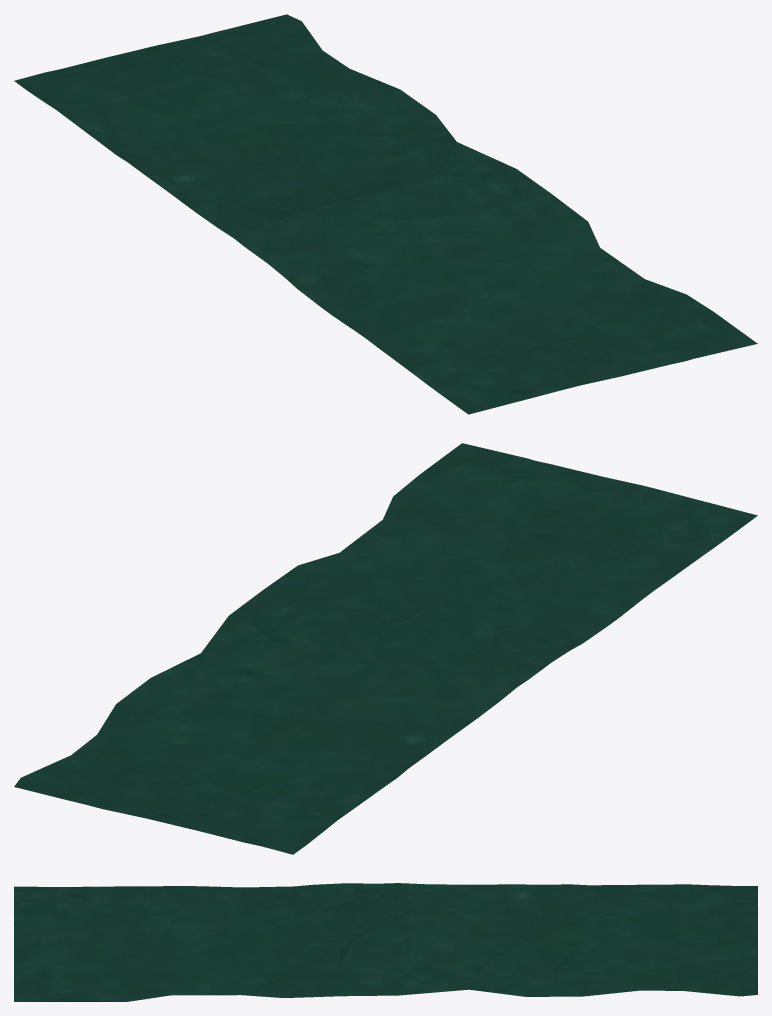
The picture shows the model from 3 angles, top to bottom: view 1: azimuth 30°, elevation 25°; view 2: azimuth 150°, elevation 25°; view 3: azimuth 270°, elevation 25°; orthographic projection. The views are drawn at different scales.
Bounding box in the file's own units: 19.19 × 0.7121 × 52.22.
Materials: 1 (1 with a texture image).
